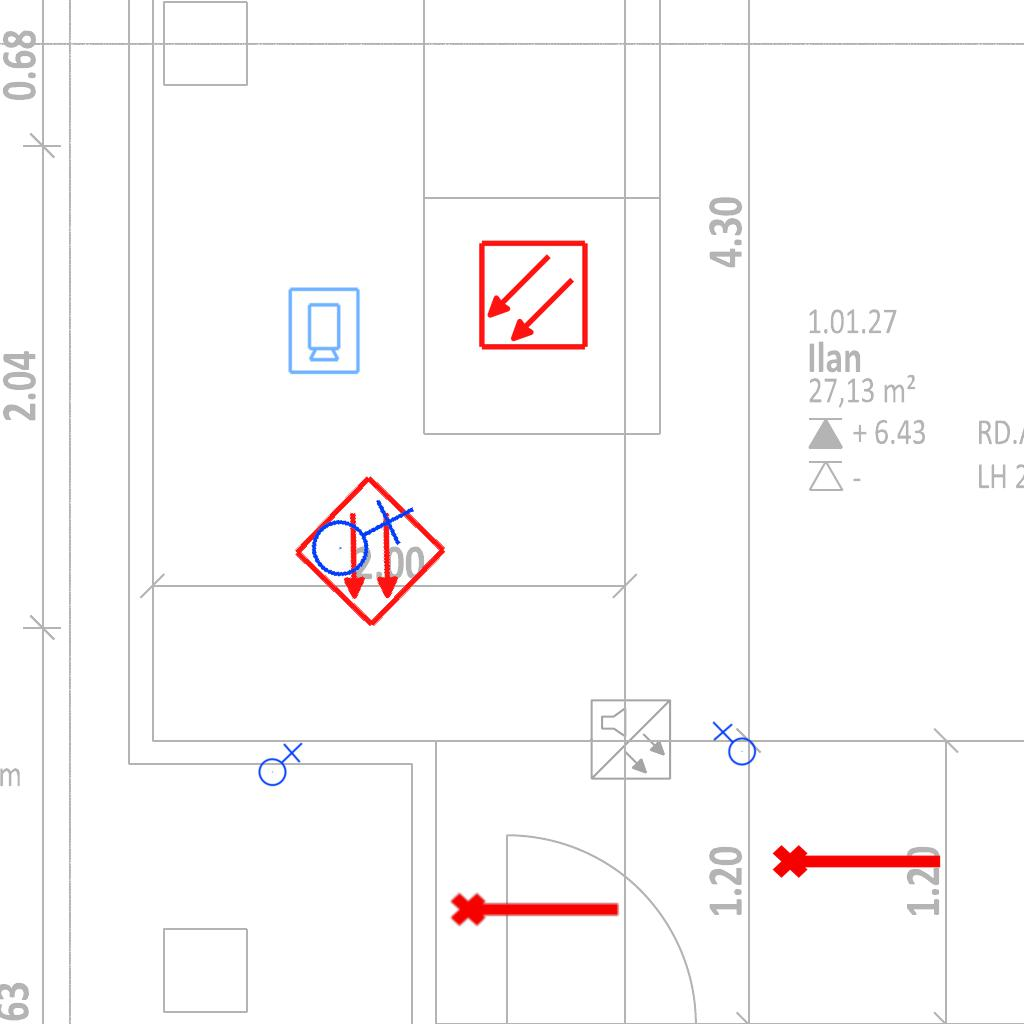ASR_Ansaugoeffnung: (448, 884, 624, 930), (770, 836, 946, 882)
Elektroanschluss_allgemein_230V_Geraeteanschlussdose_230V: (295, 476, 418, 594), (254, 740, 303, 787), (710, 721, 757, 770)
KFO_Kamera_mit_Festobjektiv: (285, 285, 362, 376)
RMO_Rauchmelder_optischer: (290, 471, 451, 632), (477, 239, 590, 352)
